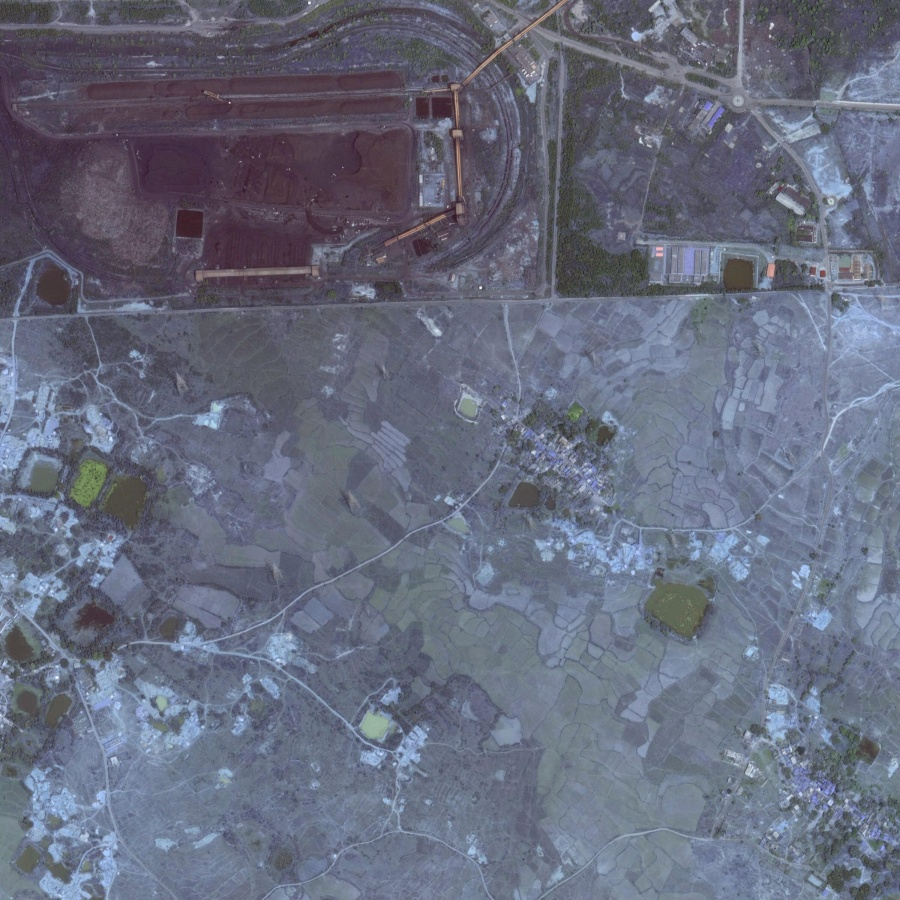PowerPlant: (11, 48, 522, 304)
